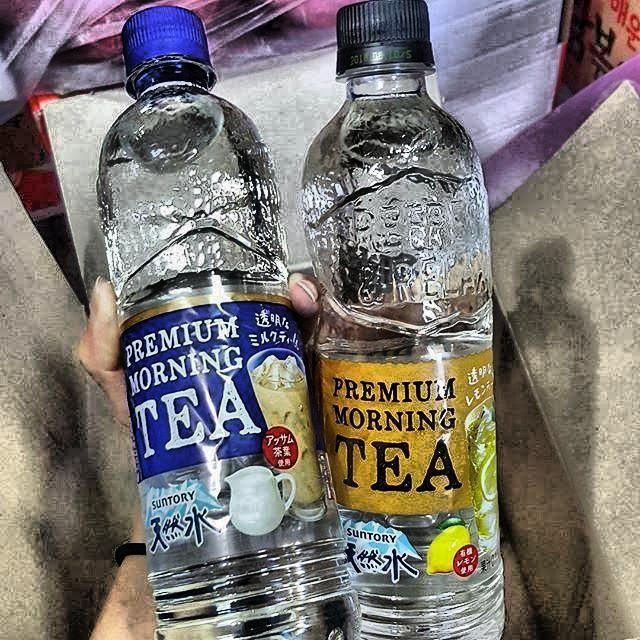Bottles: (84, 7, 361, 640), (286, 0, 539, 640)
